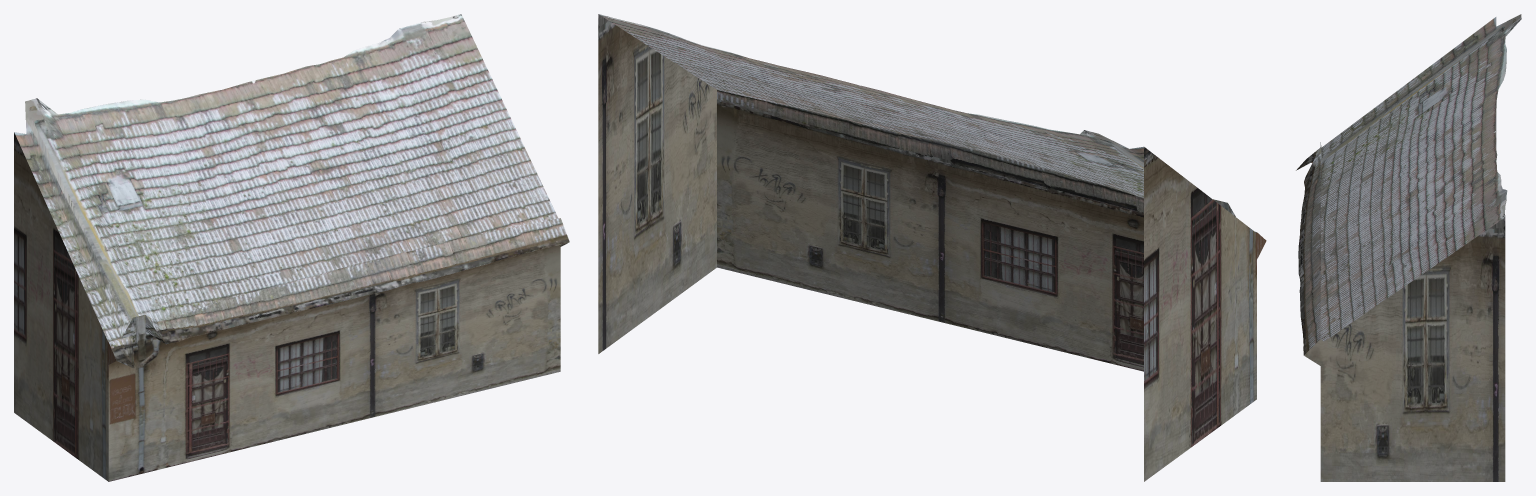
File: house_b.glb
3 renders of one model, left to right at view 1: azimuth 30°, elevation 25°; view 2: azimuth 150°, elevation 25°; view 3: azimuth 270°, elevation 25°, orthographic. The views are drawn at different scales.
Visible parts, largest first — view 1: old_house_2a; view 2: old_house_2a; view 3: old_house_2a.
Boxes of the visible parts, <box> form: old_house_2a: <box>14,14,569,481</box>; old_house_2a: <box>598,14,1266,481</box>; old_house_2a: <box>1296,14,1521,481</box>.
Size of the model in its own units: 7.8 by 4.87 by 3.64.
1 material, 1 textured.
